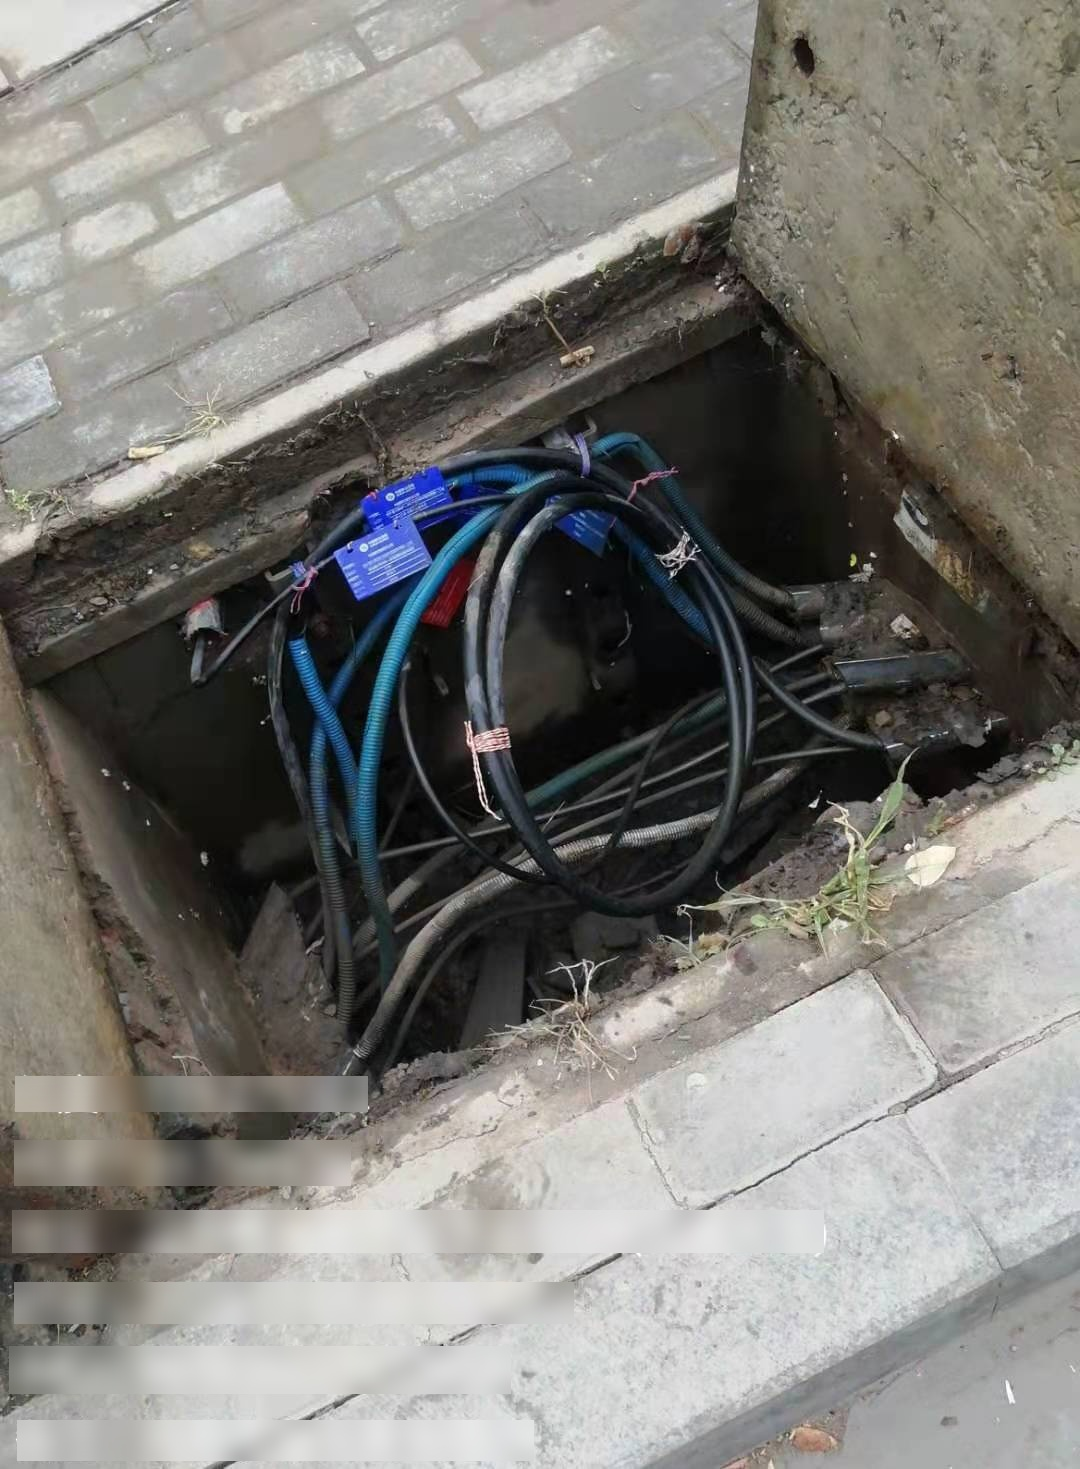uncovered: (14, 7, 1080, 1223)
